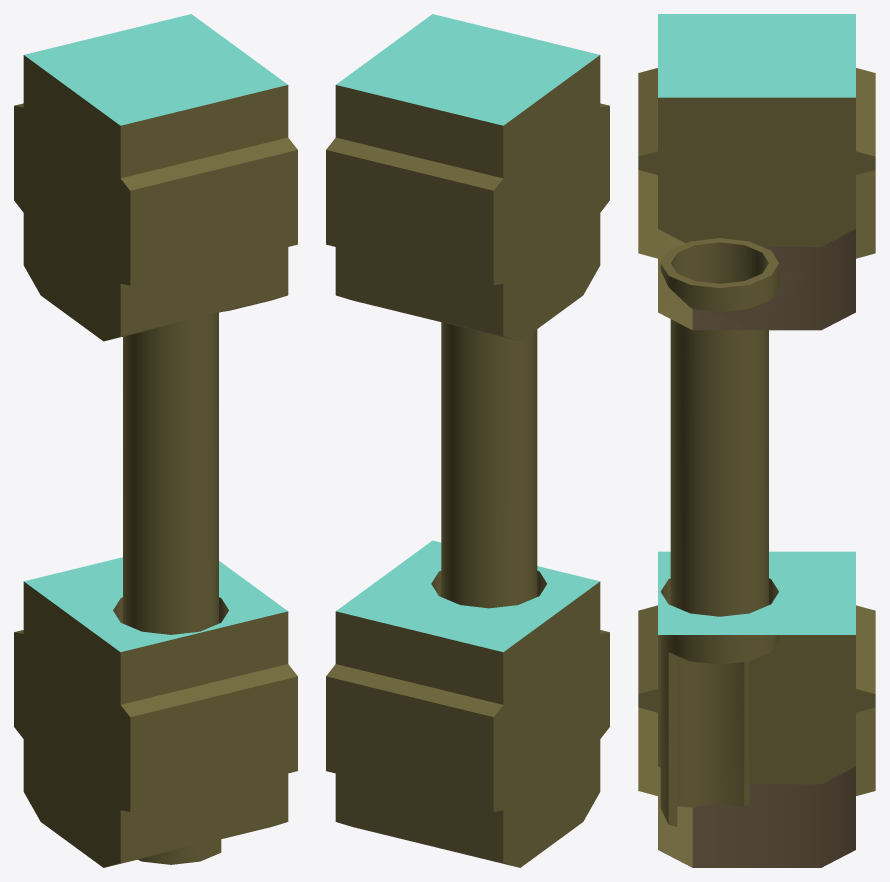
Rendered from Dead_End_Manhole.fbx.
3 renders of one model, left to right at view 1: azimuth 30°, elevation 25°; view 2: azimuth 150°, elevation 25°; view 3: azimuth 270°, elevation 25°, orthographic. The views are drawn at different scales.
Parts seen in each view (by area): view 1: Dead_End_Manhole; view 2: Dead_End_Manhole; view 3: Dead_End_Manhole.
Part boxes in pixels (left/top/right/bottom): Dead_End_Manhole: left=14, top=14, right=297, bottom=867; Dead_End_Manhole: left=326, top=14, right=609, bottom=867; Dead_End_Manhole: left=638, top=14, right=875, bottom=867.
Bounding box in the file's own units: 2 × 8.62 × 2.4.
